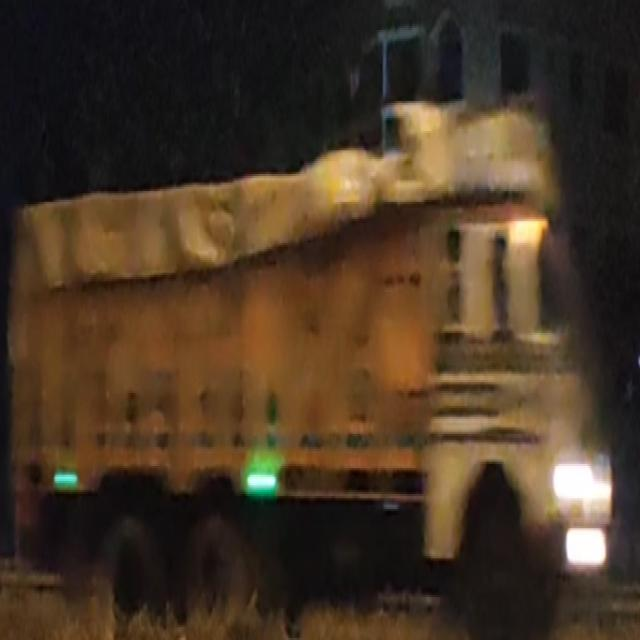truck: (12, 94, 620, 640)
